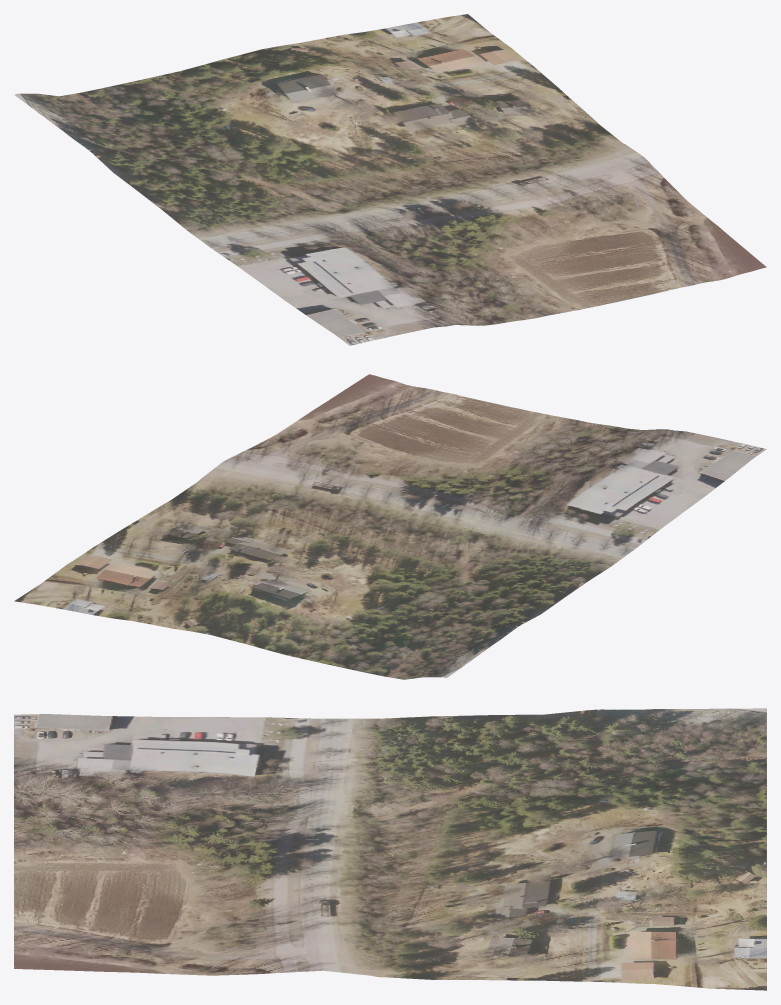
Rendered from CM_Terrain_24493940_6815903.fbx.
The picture shows the model from 3 angles, top to bottom: view 1: azimuth 30°, elevation 25°; view 2: azimuth 150°, elevation 25°; view 3: azimuth 270°, elevation 25°; orthographic projection. The views are drawn at different scales.
Visible parts, largest first — view 1: CM_Terrain_24493940_6815903_LOD0; view 2: CM_Terrain_24493940_6815903_LOD0; view 3: CM_Terrain_24493940_6815903_LOD0.
Boxes of the visible parts, <box> form: CM_Terrain_24493940_6815903_LOD0: <box>14,14,766,345</box>; CM_Terrain_24493940_6815903_LOD0: <box>14,374,766,679</box>; CM_Terrain_24493940_6815903_LOD0: <box>14,708,766,990</box>.
Size of what is drawn, in the model's own units: 160 by 10.5 by 205.
